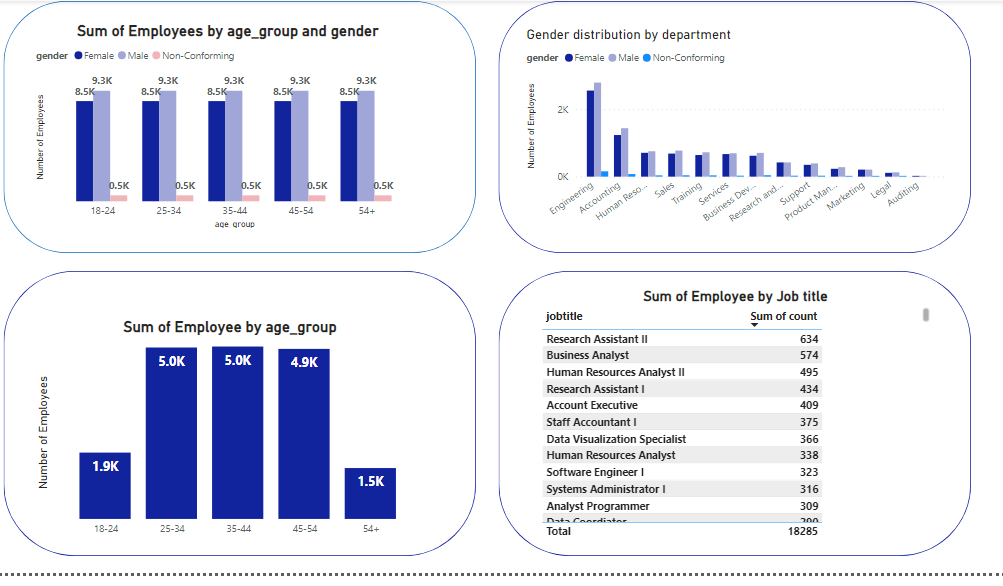

Layout of this report page (visuals, bound fields, positions):
{"tool":"powerbi","page":{"name":"Page 2","canvas":[1280,720],"ordinal":1},"visuals":[{"type":"columnChart","title":"Sum of Employee by age_group","fields":{"Category":["age group.age_group"],"Y":["Sum(age group.count)"]},"box":[0,391.6,620.1,328.7],"z":0},{"type":"clusteredColumnChart","title":"Sum of Employees by age_group and gender","fields":{"Category":["age group.age_group"],"Y":["Sum(gender.count)"],"Series":["gender.gender"]},"box":[0,44.9,620.1,328.7],"z":1000},{"type":"clusteredColumnChart","title":"Gender distribution by department","fields":{"Y":["Sum(gender departments.count)"],"Category":["gender departments.department"],"Series":["gender departments.gender"]},"box":[640.6,44.9,620.1,328.7],"z":1001},{"type":"tableEx","title":"Sum of Employee by Job title","fields":{"Values":["JOB TITLE.jobtitle","Sum(JOB TITLE.count)"]},"box":[640.6,400.6,599.6,310.7],"z":1002}]}

Visuals, with their boxes on the page's 1280x720 design canvas (x1, y1, x2, y2). These are canvas units, not pixel positions in the 1003x586 screenshot, which may show the page scaled, cropped or inside an application window:
"Sum of Employee by age_group" columnChart: rect(0, 392, 620, 720)
"Sum of Employees by age_group and gender" clusteredColumnChart: rect(0, 45, 620, 374)
"Gender distribution by department" clusteredColumnChart: rect(641, 45, 1261, 374)
"Sum of Employee by Job title" tableEx: rect(641, 401, 1240, 711)
